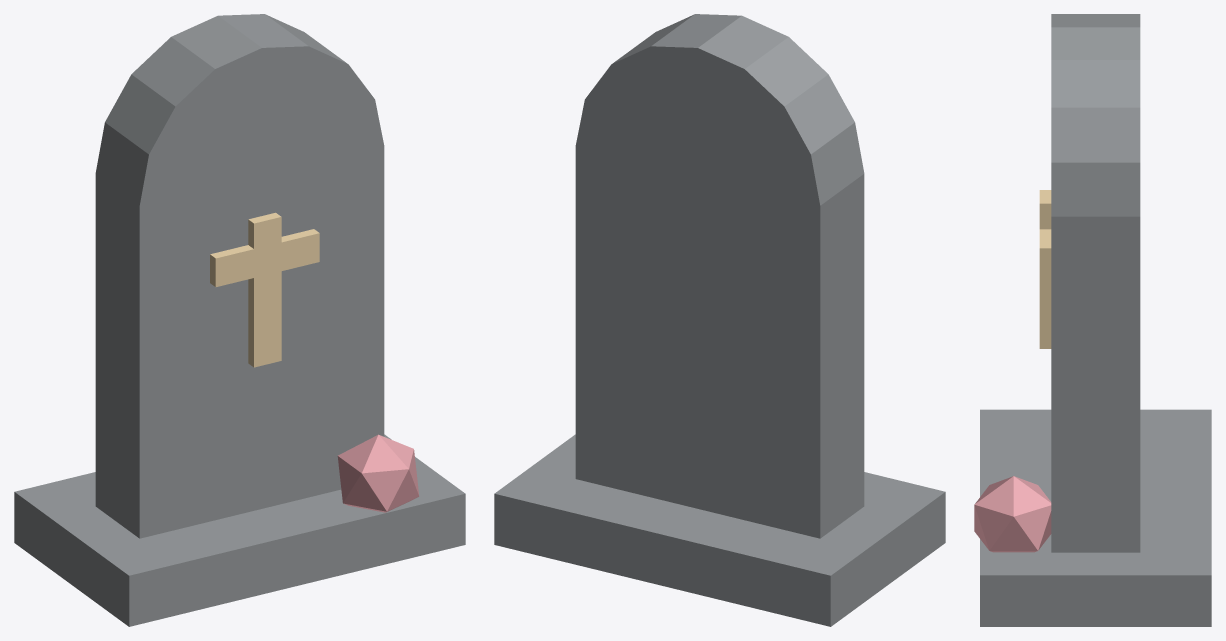
Rendered from tombstone_cartoon.glb.
3 renders of one model, left to right at view 1: azimuth 30°, elevation 25°; view 2: azimuth 150°, elevation 25°; view 3: azimuth 270°, elevation 25°, orthographic.
Visible parts, largest first — view 1: stone, round_top, base, flower, cross_vertical, cross_horizontal; view 2: stone, round_top, base; view 3: base, stone, round_top, flower, cross_vertical, cross_horizontal.
Part boxes in pixels (x1=…): stone: x1=95, y1=148, x2=384, y2=538; round_top: x1=95, y1=14, x2=384, y2=305; base: x1=14, y1=434, x2=465, y2=626; flower: x1=337, y1=434, x2=419, y2=512; cross_vertical: x1=248, y1=212, x2=281, y2=367; cross_horizontal: x1=210, y1=229, x2=319, y2=286; stone: x1=575, y1=147, x2=864, y2=538; round_top: x1=575, y1=14, x2=864, y2=305; base: x1=494, y1=434, x2=945, y2=626; base: x1=980, y1=409, x2=1211, y2=626; stone: x1=1051, y1=216, x2=1140, y2=552; round_top: x1=1051, y1=14, x2=1140, y2=216; flower: x1=974, y1=476, x2=1051, y2=552; cross_vertical: x1=1039, y1=190, x2=1051, y2=348; cross_horizontal: x1=1039, y1=229, x2=1051, y2=277.
Size of the model in its own units: 1.1 by 1.6 by 0.6656.
